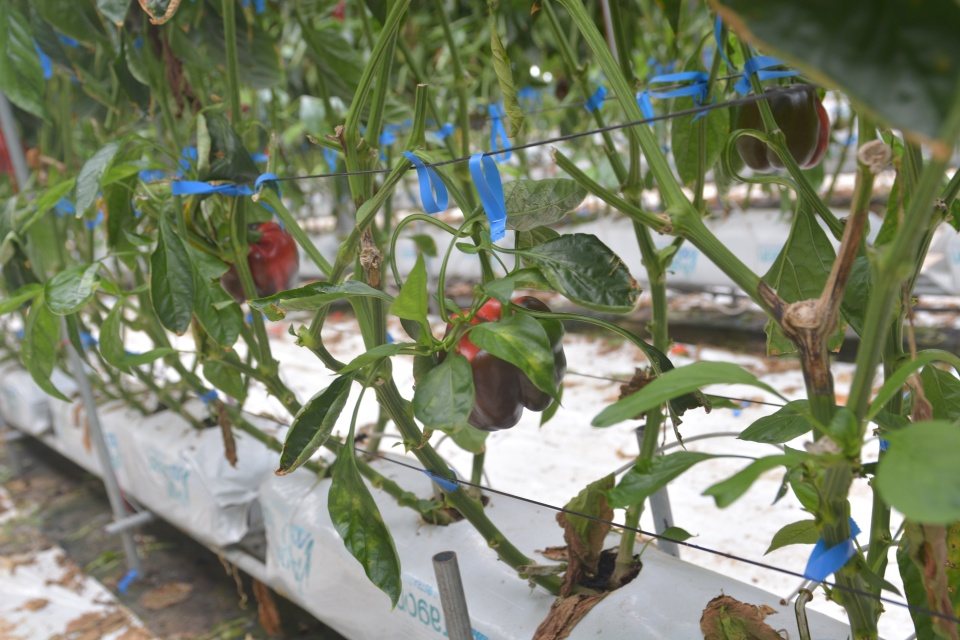fruit: (443, 294, 570, 432), (733, 80, 833, 172), (216, 220, 302, 304)
